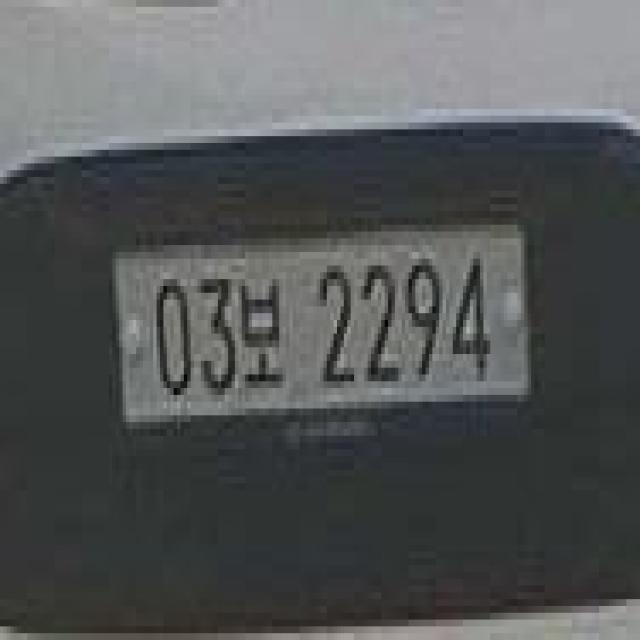illegal_plate: (110, 214, 538, 449)
